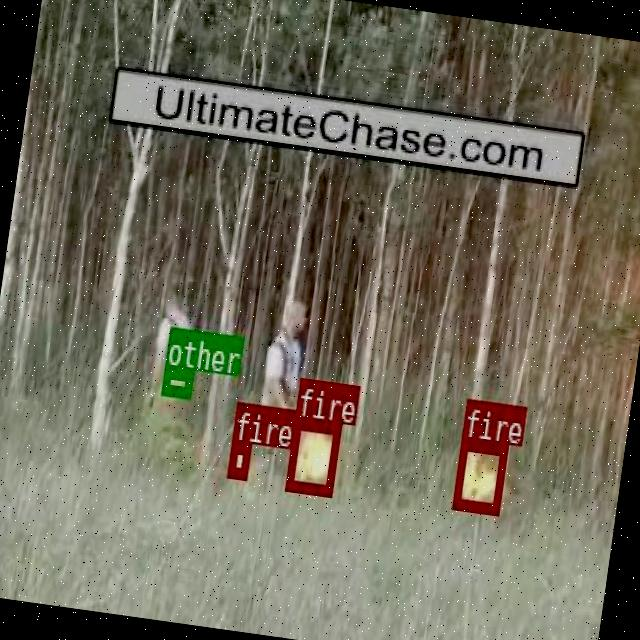fire: (284, 416, 340, 494), (452, 436, 508, 512), (227, 440, 251, 478)
